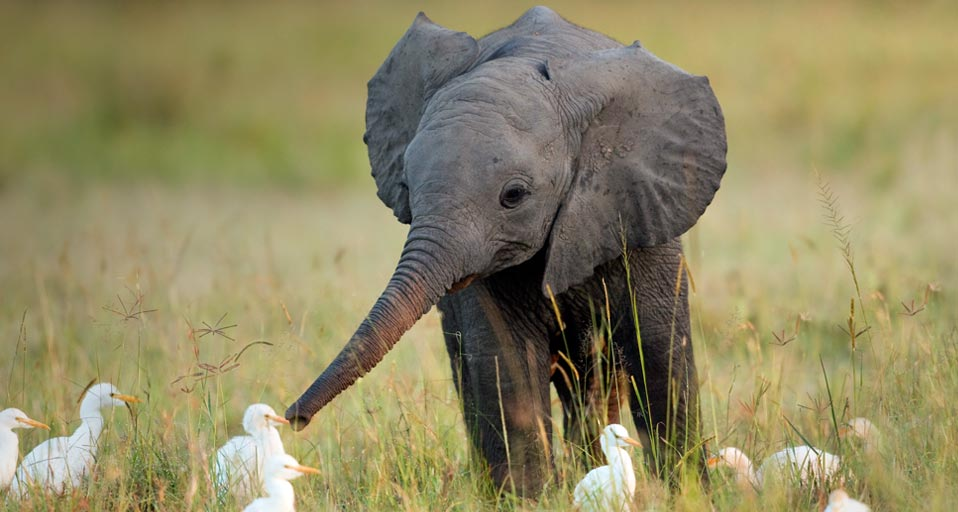africanelephant: (368, 70, 736, 424)
